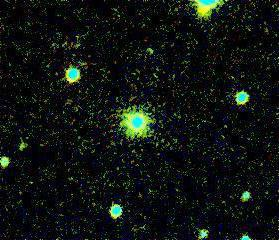star: (134, 36, 164, 66)
